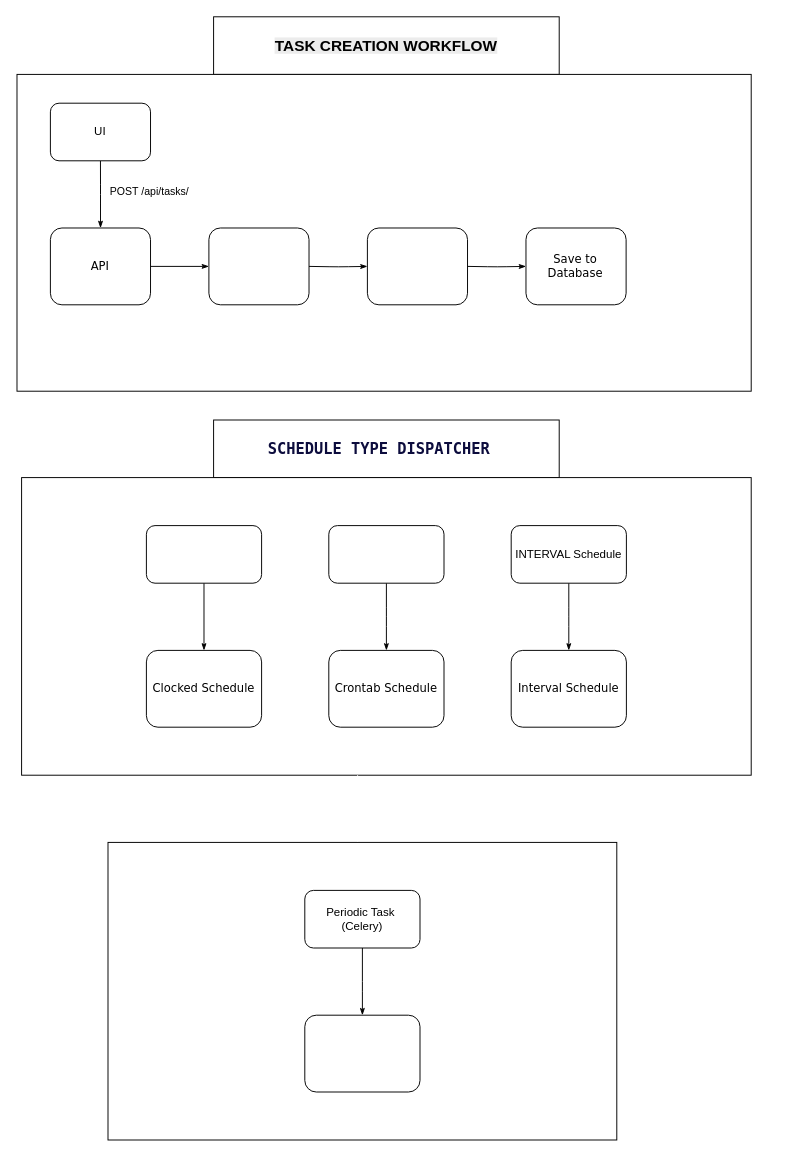
This 806x1166 diagram has some shape labels left out. The shapes that lost their labels are listed below. From the top down, each one's centre as x and y in pixels, then its label:
At (258,266): "Validate Data".
At (417,266): "Create Schedule".
At (203,554): "ONE_TIME Schedule".
At (386,554): "CRON Schedule".
At (362,1053): "Created Notification".
